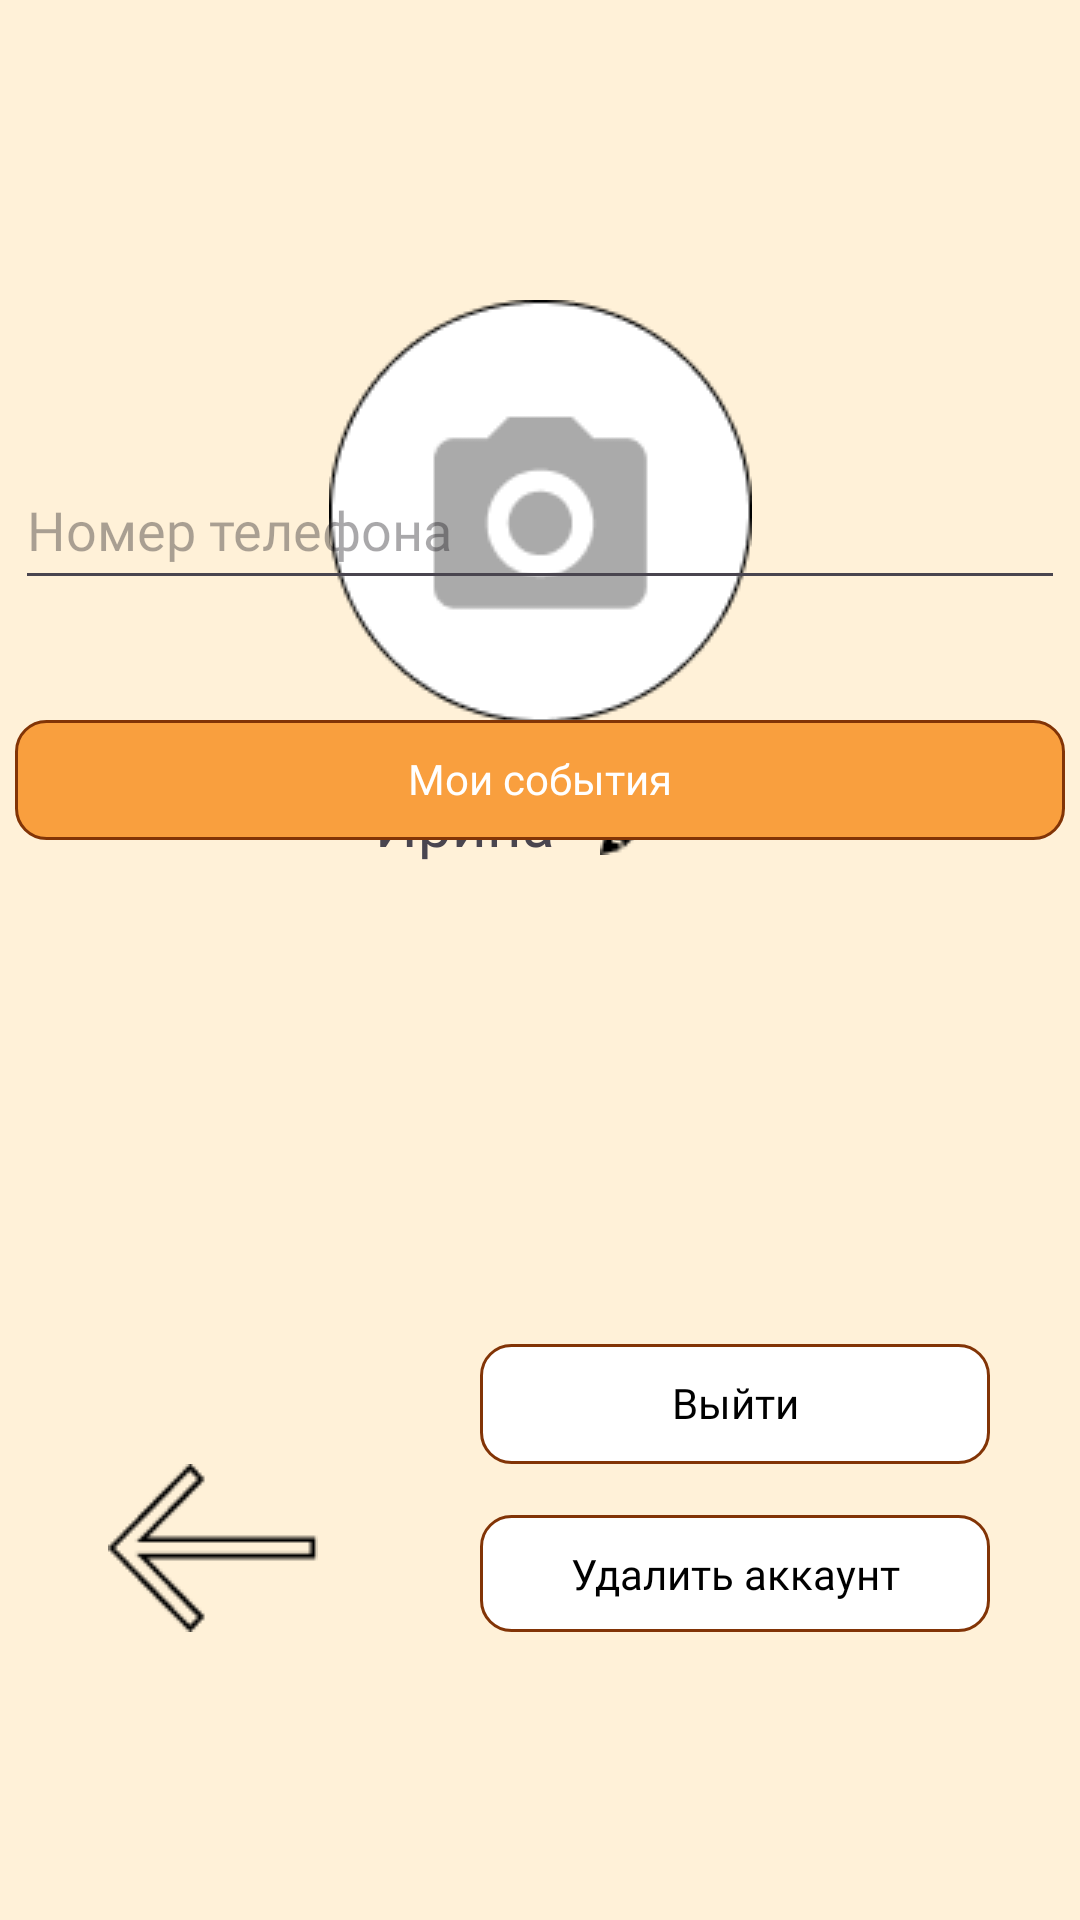

Where icons sit on this 1080*1920 app screen, as (x1, y1, x2, y2):
arrow left: (108, 1464, 318, 1632)
